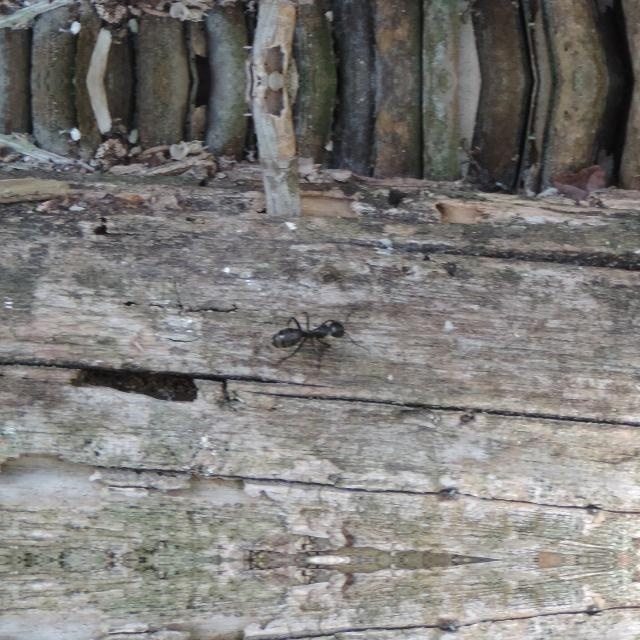Camponotus: (255, 298, 372, 368)
